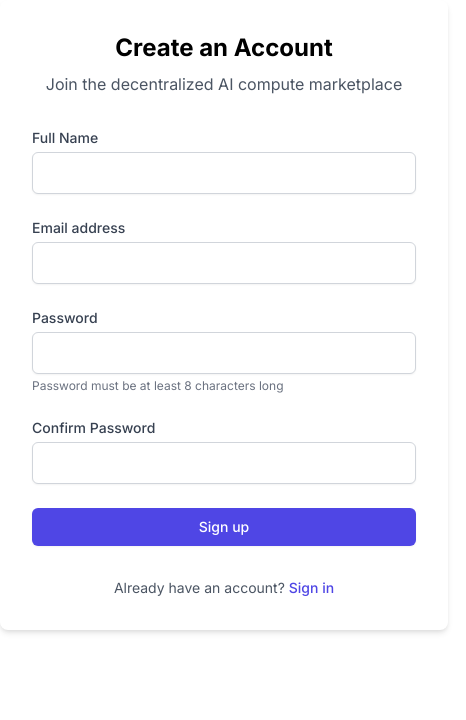
it: SignUpForm › handles sign up with email confirmation
// Fill in the form
Type "Test User" into the field labelled "Full Name". click: point(224, 173)
box: [32,152,416,194]
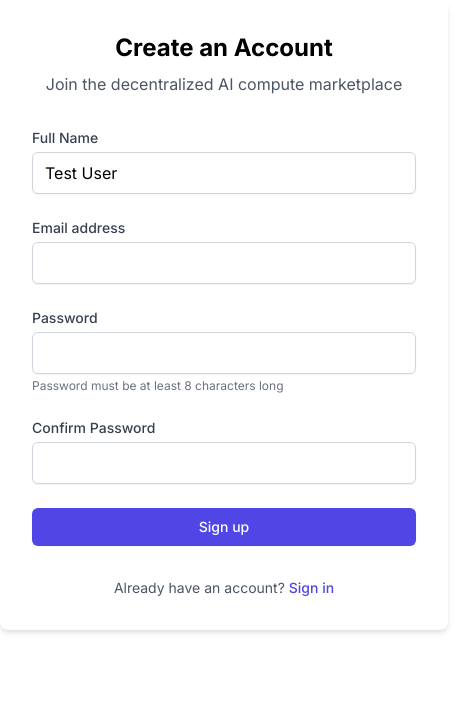
Type "test@example.com" into the field labelled "Email address". click: point(224, 263)
box: [32,242,416,284]
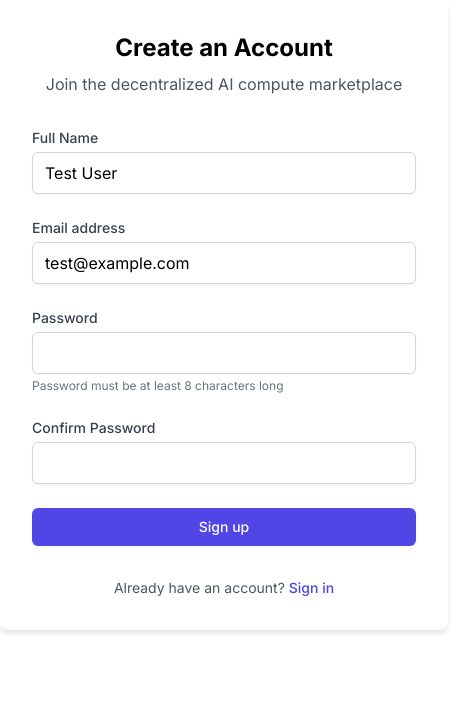
// Use a more specific selector to avoid ambiguity with multiple password fields
Type "password123" into the password field labelled "Password". click: point(224, 353)
box: [32,332,416,374]
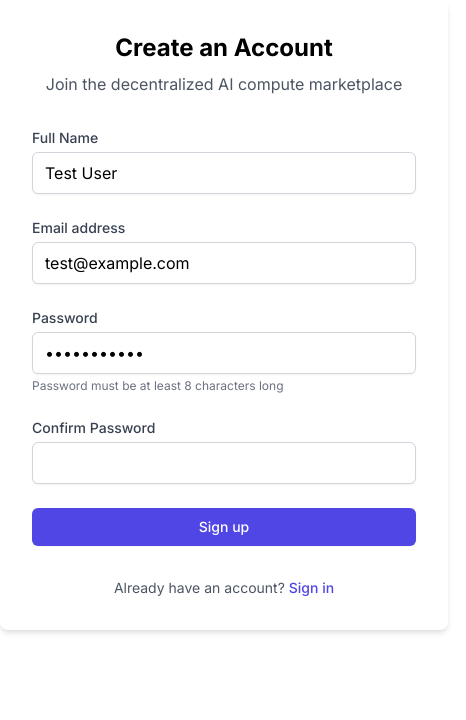
Type "password123" into the password field labelled "Confirm Password". click: point(224, 463)
box: [32,442,416,484]
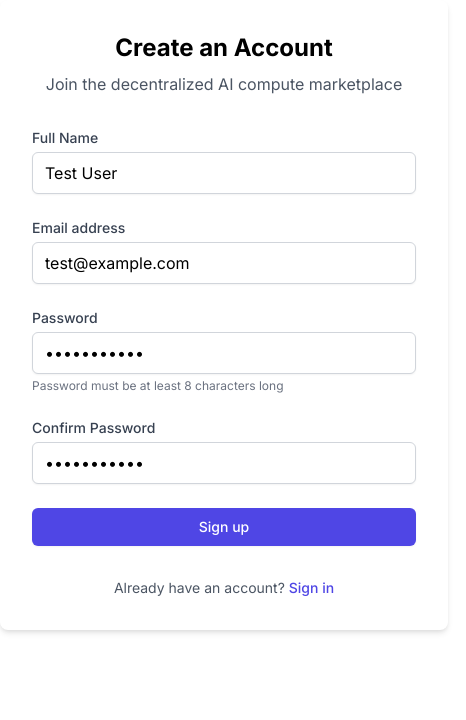
// Submit the form
Click the button "Sign up". click: point(224, 527)
box: [32,508,416,546]
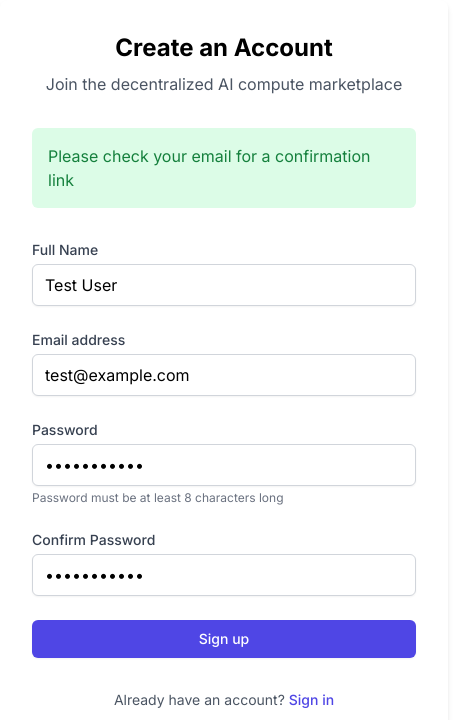
Check: the text "Please check your email for a confirmation link" is shown, box [32,128,416,208]
